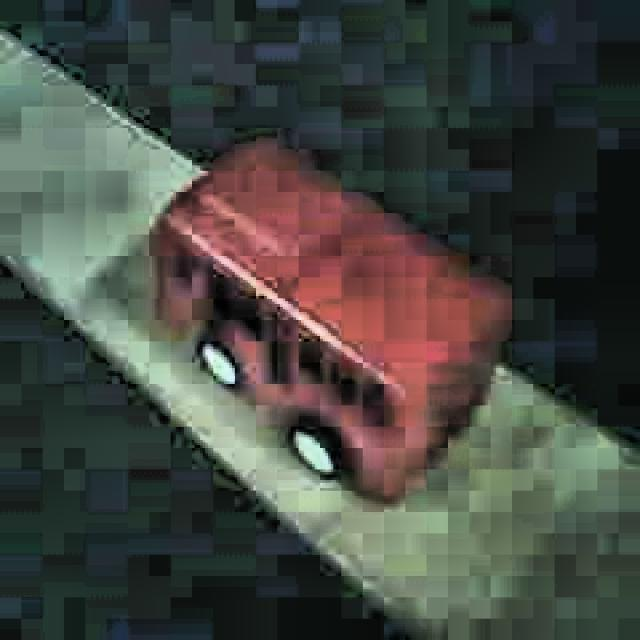bus: (145, 138, 514, 509)
